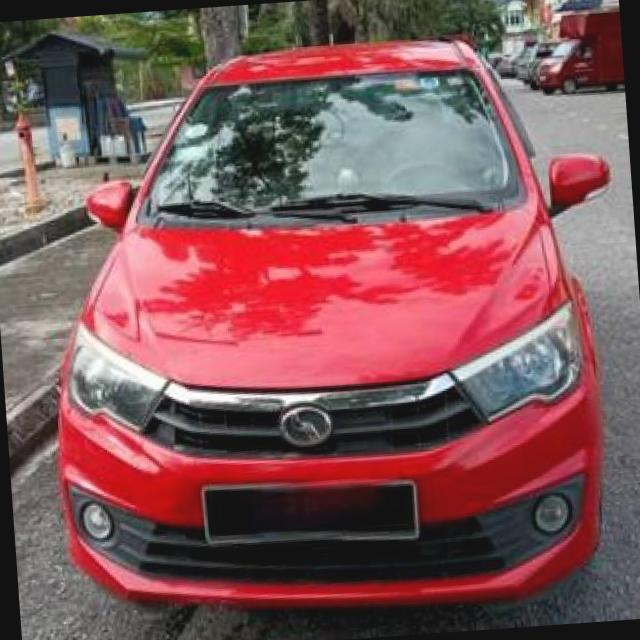PeroduaBezza: (27, 22, 640, 632)
